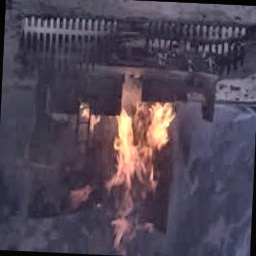fire: (86, 95, 187, 202)
